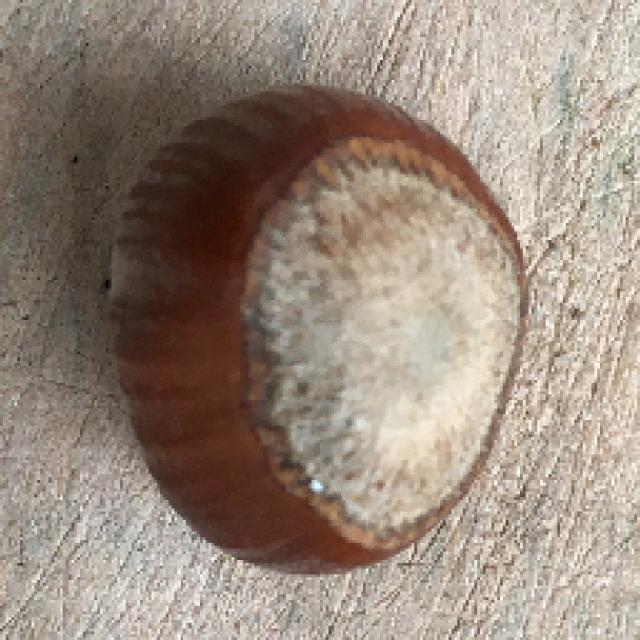qualityHazelnut: (114, 83, 528, 576)
